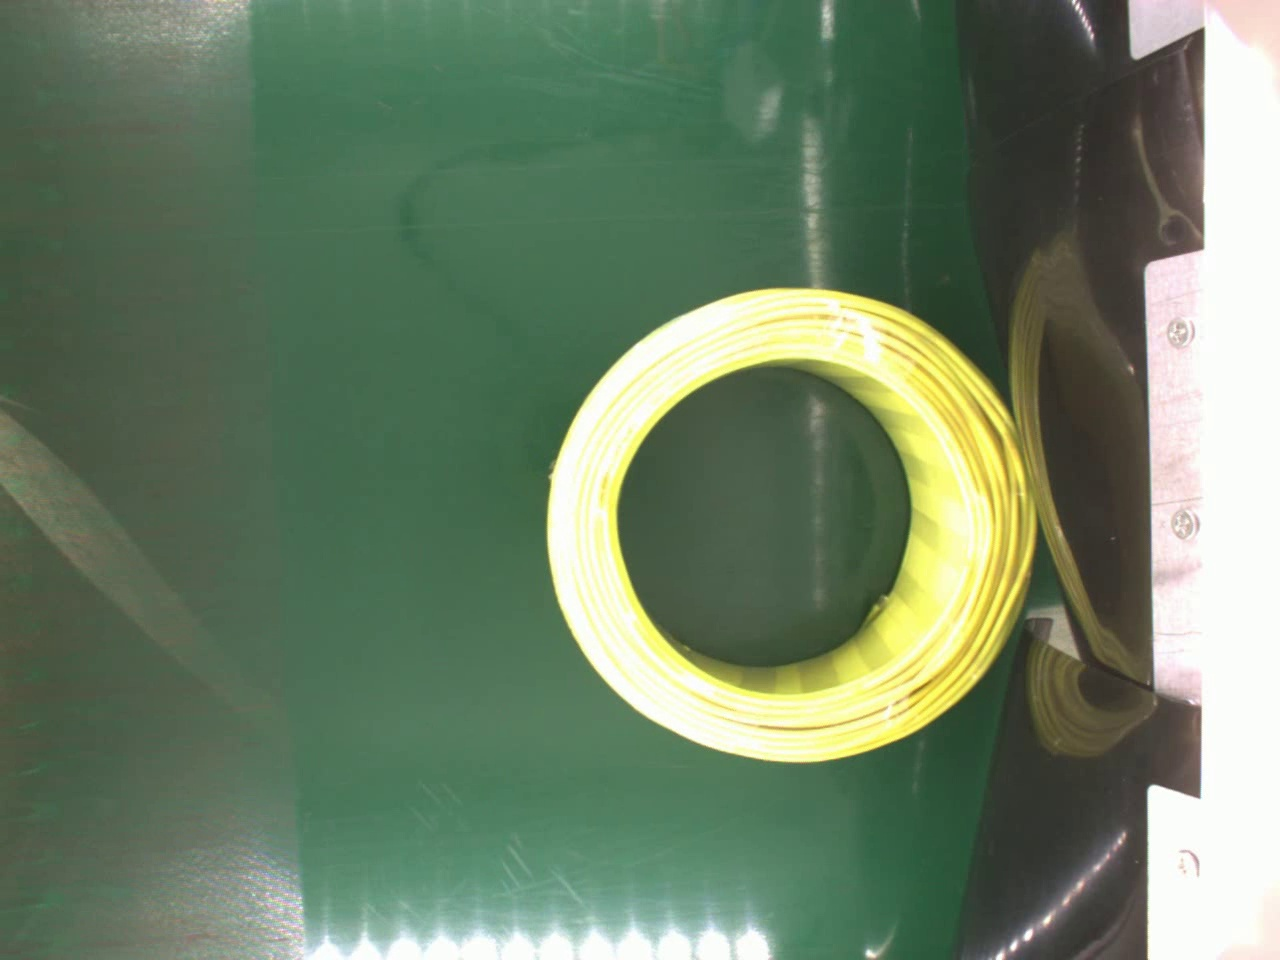yellow: (542, 286, 1044, 772)
